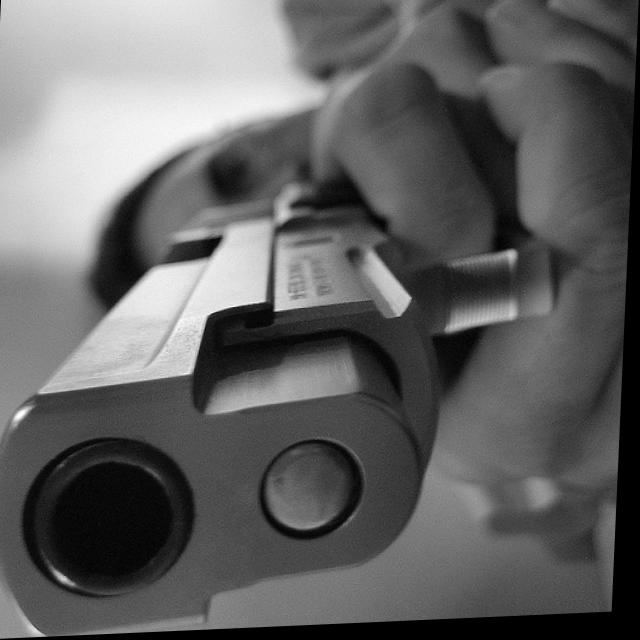handgun: (0, 175, 568, 637)
